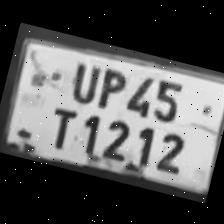1: (70, 106, 106, 158), (125, 118, 160, 170)
2: (146, 122, 190, 177), (94, 110, 134, 162)
4: (118, 66, 158, 117)
5: (145, 72, 187, 123)
P: (89, 61, 128, 110)
T: (38, 98, 82, 154)
U: (61, 55, 102, 104)
